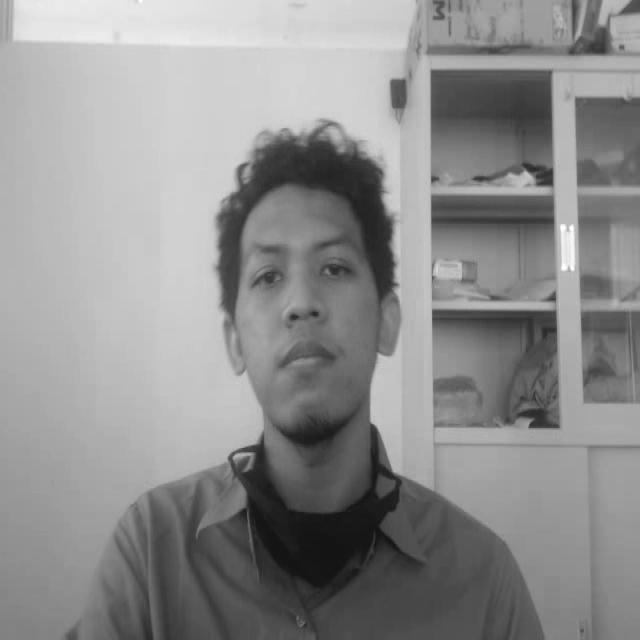real: (204, 110, 404, 456)
